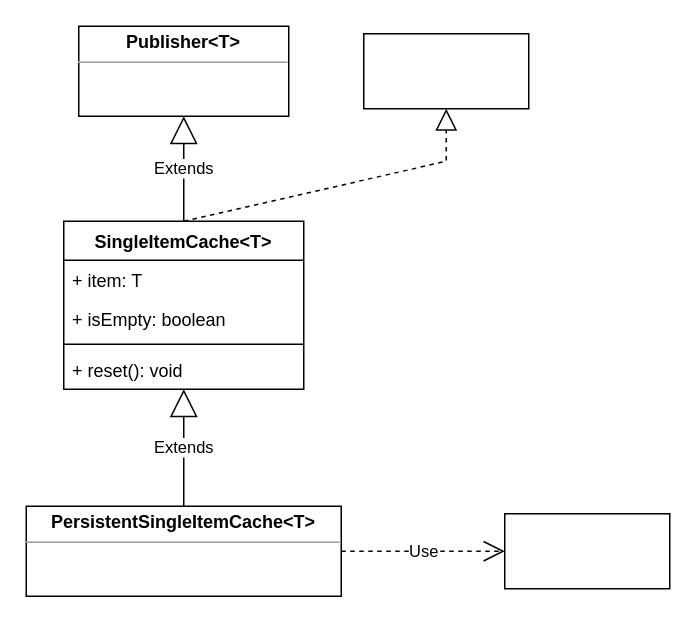
Image size: 696x623. Some labels were removed from this diagram. Here are the shapes that lost their labels. From the top down, the centre of each, then its label:
At [445,70]: "«interface» Resettable".
At [586,550]: "localStorage".
